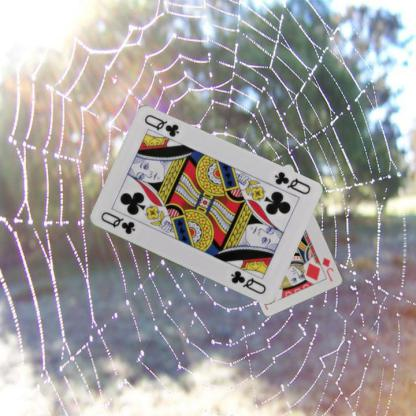Jd: (320, 255, 335, 283)
Qc: (271, 169, 311, 196), (98, 209, 136, 236)
